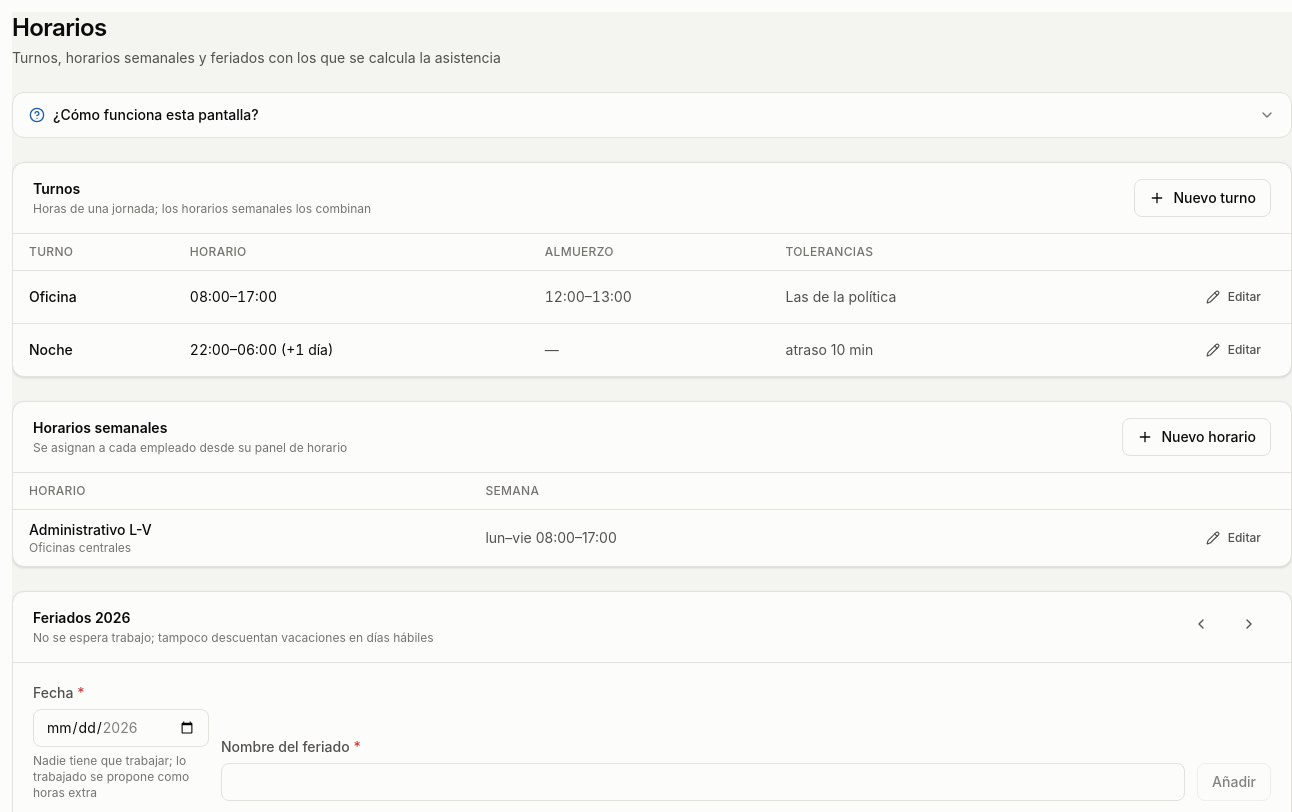
Test: SchedulesPage — shifts › asks for both lunch times or neither
Click the button with aria-label "Editar turno Oficina": (1233, 297) left=1192, top=281, right=1275, bottom=313
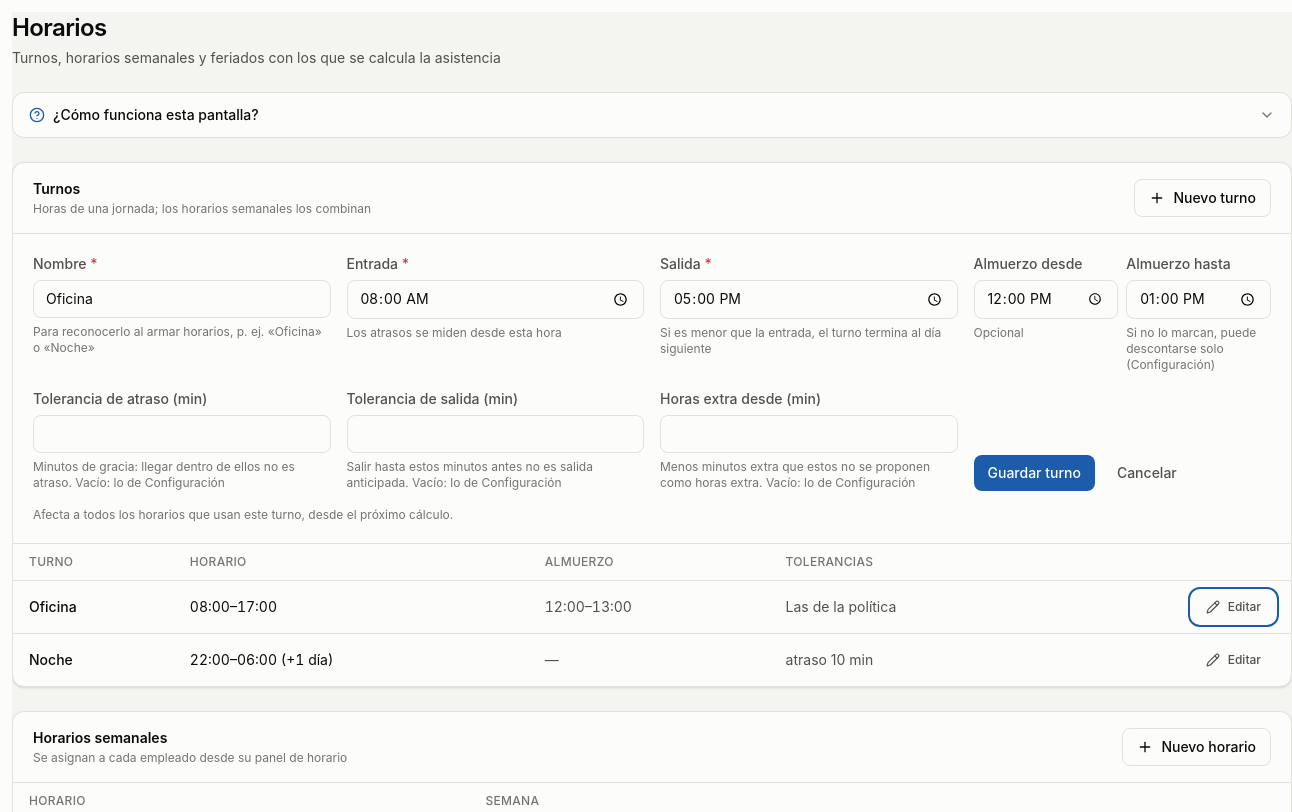
Clear the time field labelled "Almuerzo hasta": (1199, 299) left=1126, top=280, right=1271, bottom=319
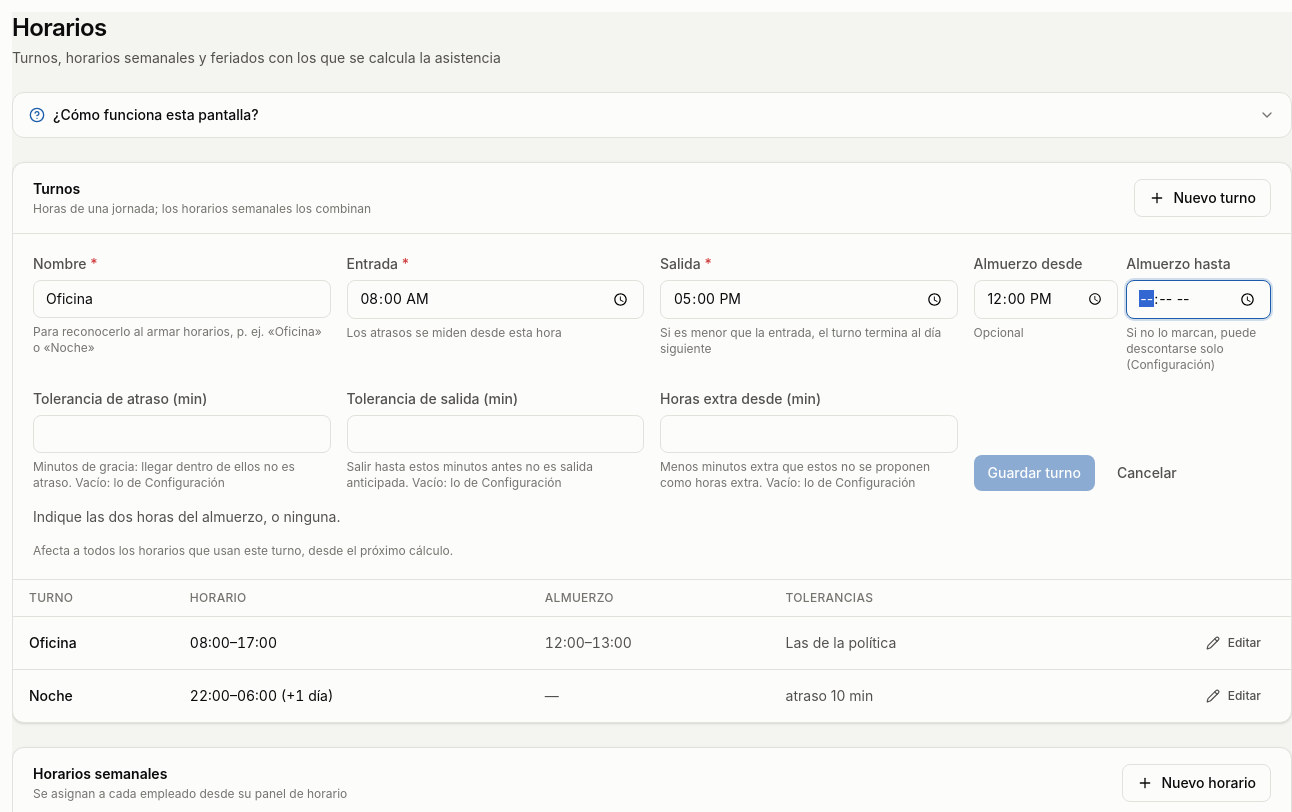
Expected: the button "Guardar turno" is disabled, left=974, top=455, right=1095, bottom=491
Expected: the text "Indique las dos horas del almuerzo, o ninguna." is shown, left=33, top=508, right=340, bottom=525
